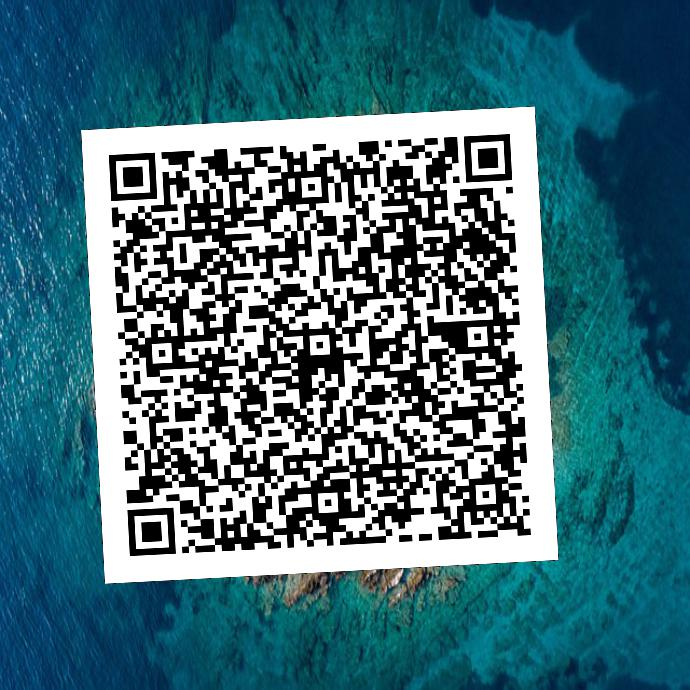qr_code: (81, 106, 558, 583)
